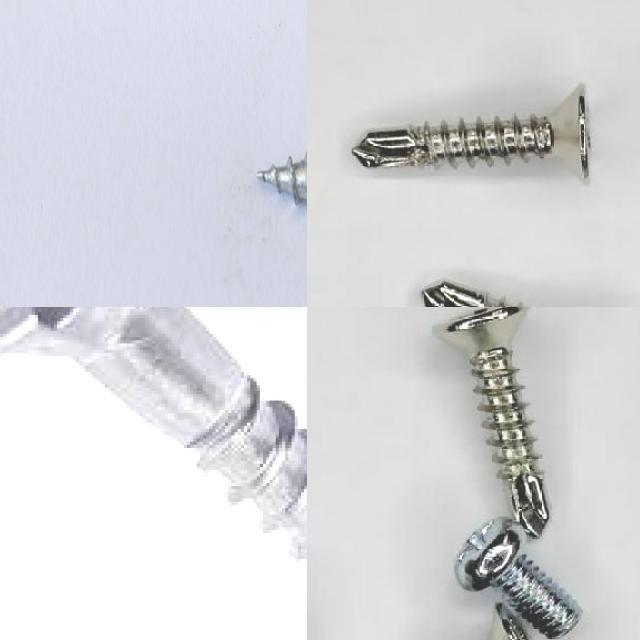Screw: (0, 307, 307, 564), (434, 307, 550, 536), (352, 83, 591, 180), (455, 519, 583, 639)
